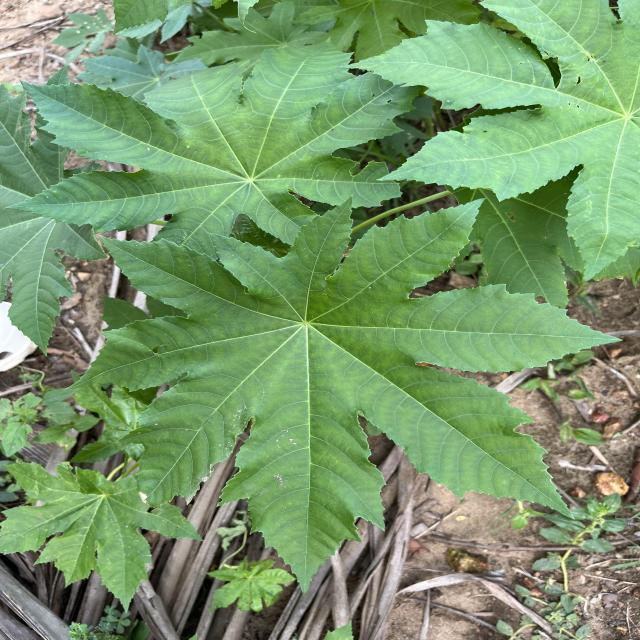Ricinus communis linn: (61, 188, 628, 600)
